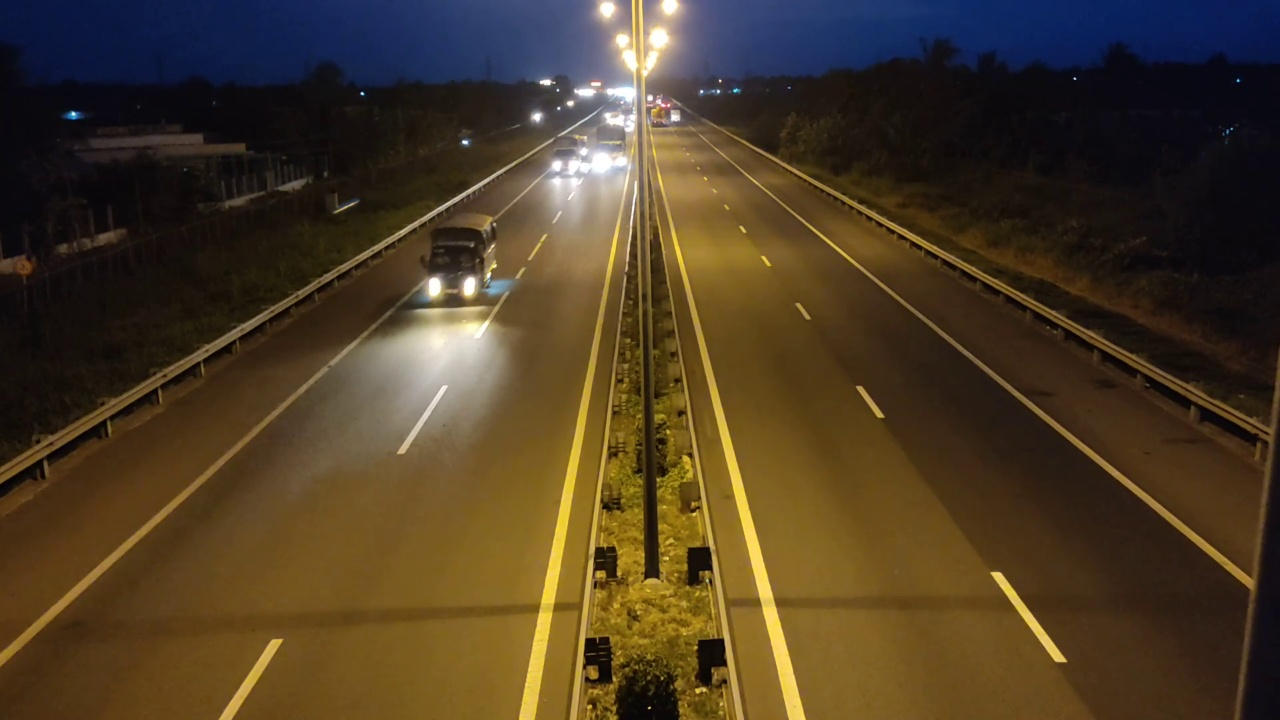truck: (417, 198, 505, 308)
